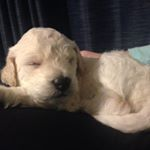puppy: (1, 23, 105, 118)
